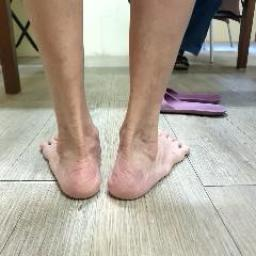Back View -Both Feet-: (27, 89, 197, 212)
